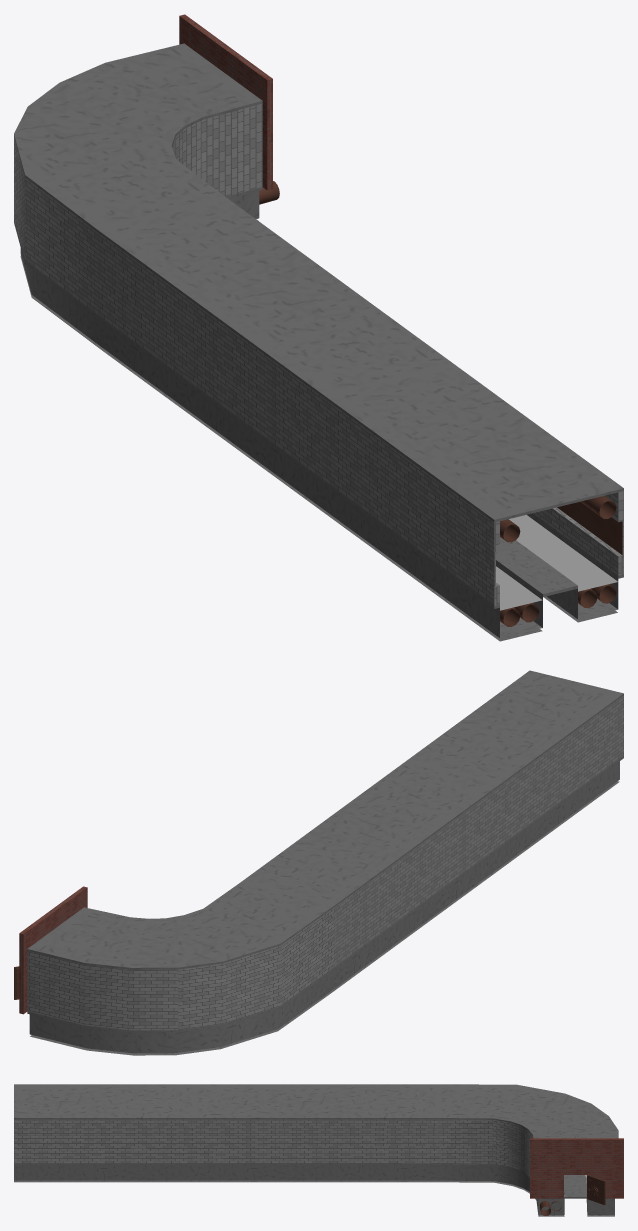
File: WayToNewUnderGroundLocation.fbx
The picture shows the model from 3 angles, top to bottom: view 1: azimuth 30°, elevation 25°; view 2: azimuth 150°, elevation 25°; view 3: azimuth 270°, elevation 25°; orthographic projection. The views are drawn at different scales.
Parts seen in each view (by area): view 1: Cube.097, Cube.093, Cube.096, Cube.098, Cube.110, Cube.099; view 2: Cube.097, Cube.093, Cube.096, Cube.110; view 3: Cube.093, Cube.097, Cube.096, Cube.110, Cube.095.
Part boxes in pixels (bbox=[...]): Cube.097: bbox=[14, 43, 623, 522]; Cube.093: bbox=[14, 103, 623, 605]; Cube.096: bbox=[14, 187, 623, 641]; Cube.098: bbox=[496, 515, 617, 610]; Cube.110: bbox=[179, 14, 272, 190]; Cube.099: bbox=[259, 181, 616, 626]; Cube.097: bbox=[27, 670, 623, 969]; Cube.093: bbox=[27, 695, 623, 1030]; Cube.096: bbox=[27, 756, 623, 1055]; Cube.110: bbox=[19, 886, 87, 1014]; Cube.093: bbox=[14, 1119, 532, 1176]; Cube.097: bbox=[14, 1084, 618, 1138]; Cube.096: bbox=[14, 1164, 614, 1216]; Cube.110: bbox=[530, 1138, 623, 1198]; Cube.095: bbox=[587, 1175, 605, 1205].
Bounding box in the file's own units: 1977 × 967 × 6808.
